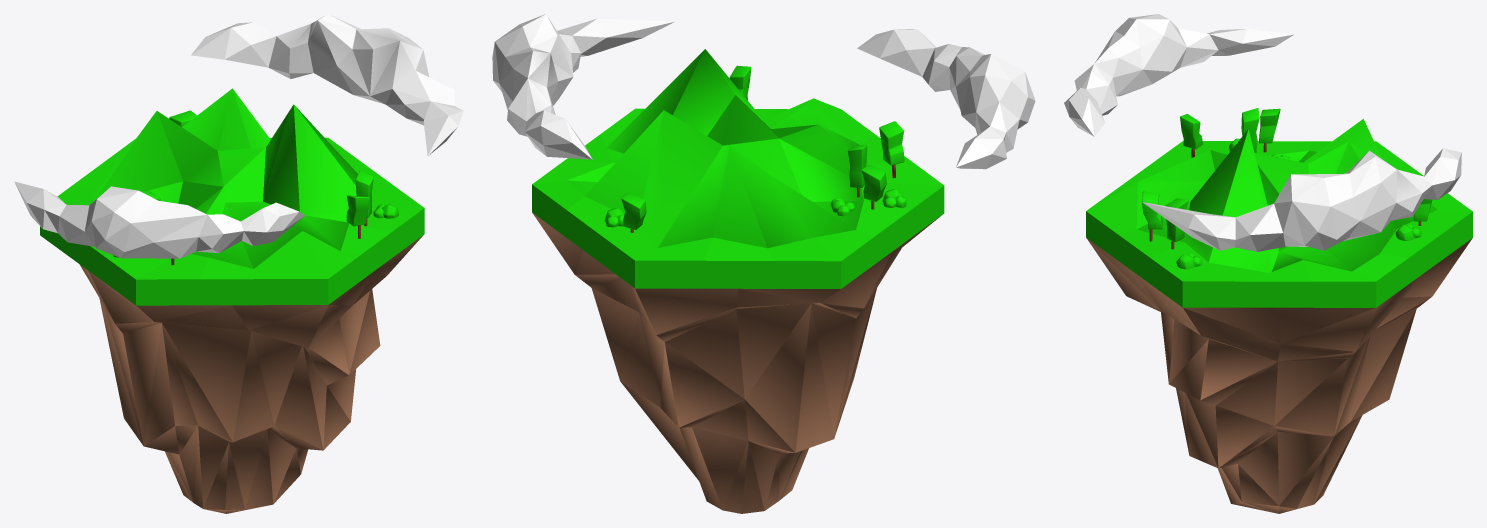
Rendered from montanha (Montanha).fbx.
The picture shows the model from 3 angles, left to right: view 1: azimuth 30°, elevation 25°; view 2: azimuth 150°, elevation 25°; view 3: azimuth 270°, elevation 25°; orthographic projection. The views are drawn at different scales.
Parts seen in each view (by area): view 1: montanha (Montanha); view 2: montanha (Montanha); view 3: montanha (Montanha).
Part boxes in pixels (<box>): montanha (Montanha): <box>14,14,463,513</box>; montanha (Montanha): <box>492,14,1035,513</box>; montanha (Montanha): <box>1064,14,1472,513</box>.
Size of the model in its own units: 1468 by 1394 by 1199.
